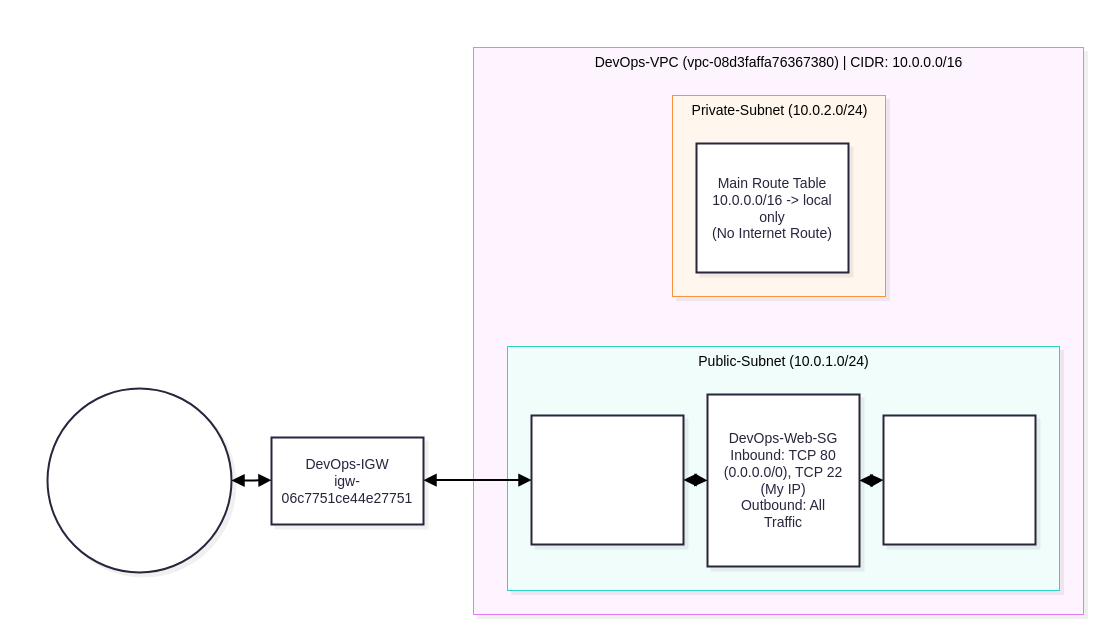
Some shapes in this 1105 by 636 pixel diagram are drawn without their labels. The centre of each missing label's shape, as x and y in pixels:
"DevOps-Web-Server (t3.micro) Auto-assign Public IPv4: Enabled" belongs at (x=961, y=481).
"Internet" belongs at (x=141, y=482).
"Public-RT (rtb-0c4120fc42258745c) 10.0.0.0/16 -> local 0.0.0.0/0 -> DevOps-IGW" belongs at (x=609, y=481).
